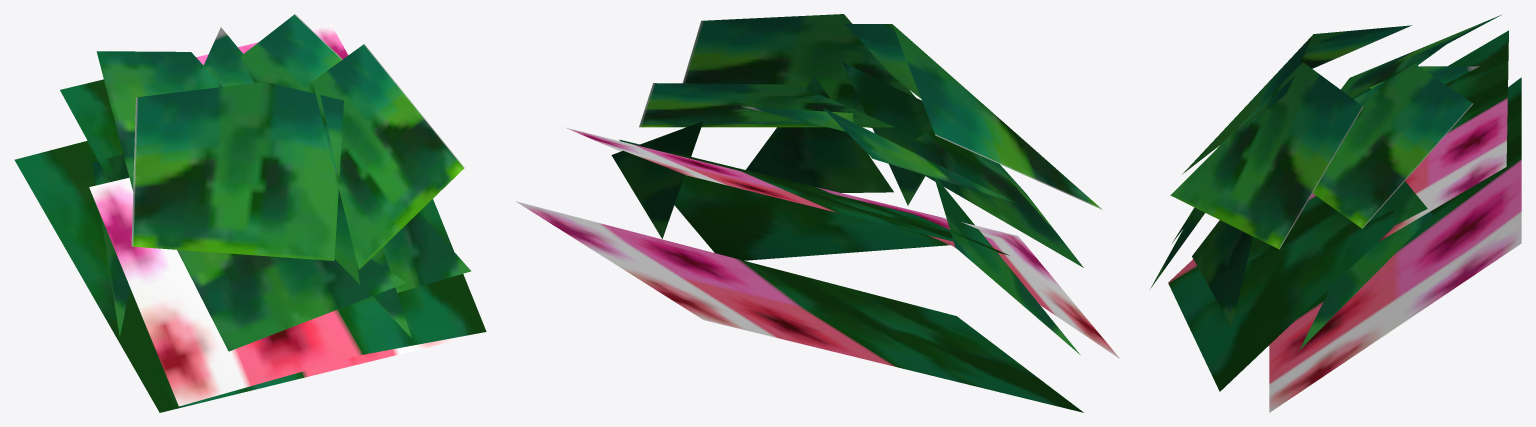
The model's file is fg_bushA_2.dae.
3 renders of one model, left to right at view 1: azimuth 30°, elevation 25°; view 2: azimuth 150°, elevation 25°; view 3: azimuth 270°, elevation 25°, orthographic. The views are drawn at different scales.
Parts seen in each view (by area): view 1: fg_bushA_2; view 2: fg_bushA_2; view 3: fg_bushA_2.
Boxes of the visible parts, <box> form: fg_bushA_2: <box>14,14,486,412</box>; fg_bushA_2: <box>515,14,1119,412</box>; fg_bushA_2: <box>1150,15,1521,412</box>.
Bounding box in the file's own units: 42.31 × 33.77 × 38.68.
1 material, 1 textured.
